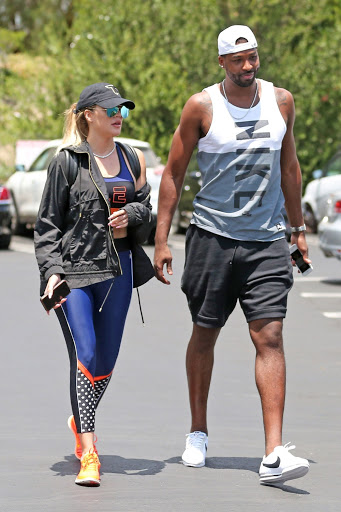Person: (162, 29, 310, 481), (39, 83, 159, 474)
